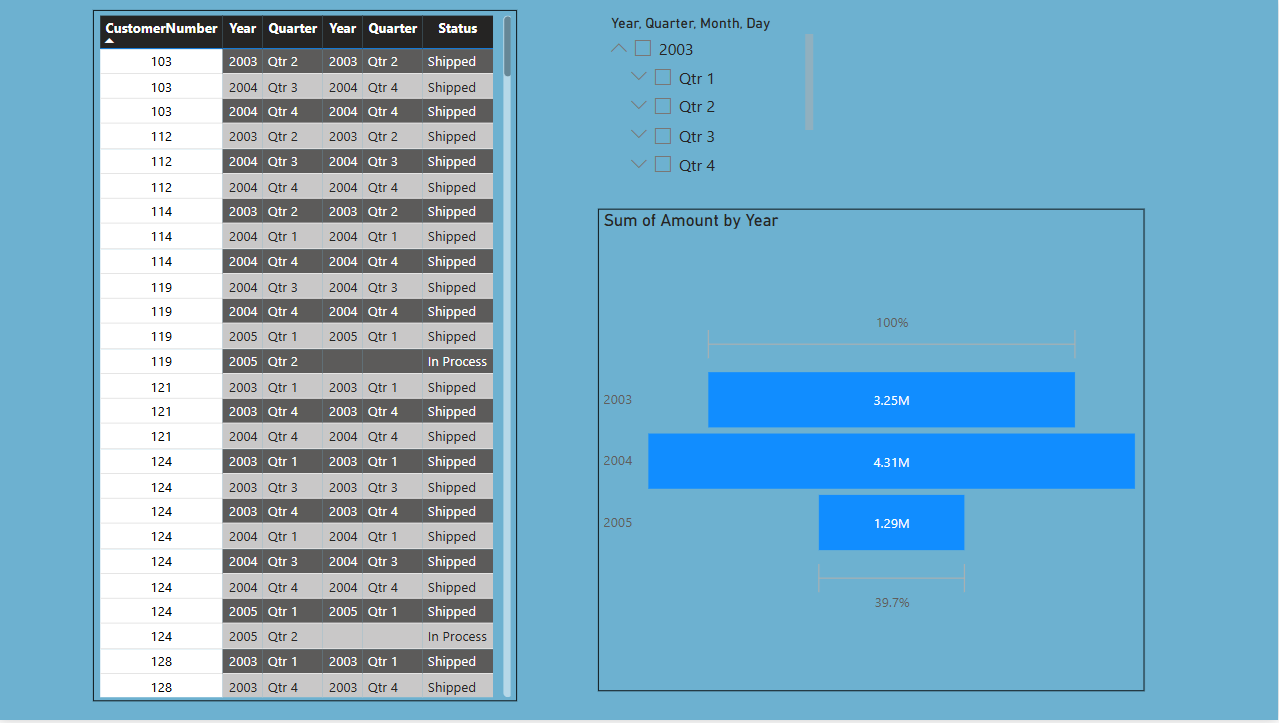

The page's visual inventory and layout, read from the dashboard file:
{"tool":"powerbi","page":{"name":"Order By Quarter","canvas":[1280,720],"ordinal":7},"visuals":[{"type":"tableEx","fields":{"Values":["classicmodels orders.CustomerNumber","classicmodels orders.OrderDate.Variation.Date Hierarchy.Year","classicmodels orders.OrderDate.Variation.Date Hierarchy.Quarter","classicmodels orders.ShippedDate.Variation.Date Hierarchy.Year","classicmodels orders.ShippedDate.Variation.Date Hierarchy.Quarter","classicmodels orders.Status"]},"box":[95,10,423.8,691.2],"z":0},{"type":"slicer","fields":{"Values":["classicmodels orders.OrderDate.Variation.Date Hierarchy.Year","classicmodels orders.OrderDate.Variation.Date Hierarchy.Quarter","classicmodels orders.OrderDate.Variation.Date Hierarchy.Month","classicmodels orders.OrderDate.Variation.Date Hierarchy.Day"]},"box":[600,10,220,168.8],"z":1000},{"type":"funnel","fields":{"Category":["classicmodels payments.PaymentDate.Variation.Date Hierarchy.Year","classicmodels payments.PaymentDate.Variation.Date Hierarchy.Quarter"],"Y":["Sum(classicmodels payments.Amount)"]},"box":[600,208.8,546.2,482.5],"z":2000}]}

Visuals, with their boxes in screenshot pixels (x1, y1, x2, y2), scaled from the page's 1280x720 canvas onto the 1279x723 screenshot:
tableEx - classicmodels orders.CustomerNumber x classicmodels orders.OrderDate.Variation.Date Hierarchy.Year: bbox=[95, 10, 518, 704]
slicer - classicmodels orders.OrderDate.Variation.Date Hierarchy.Year x classicmodels orders.OrderDate.Variation.Date Hierarchy.Quarter: bbox=[600, 10, 819, 180]
funnel - classicmodels payments.PaymentDate.Variation.Date Hierarchy.Year x classicmodels payments.PaymentDate.Variation.Date Hierarchy.Quarter: bbox=[600, 210, 1145, 694]
